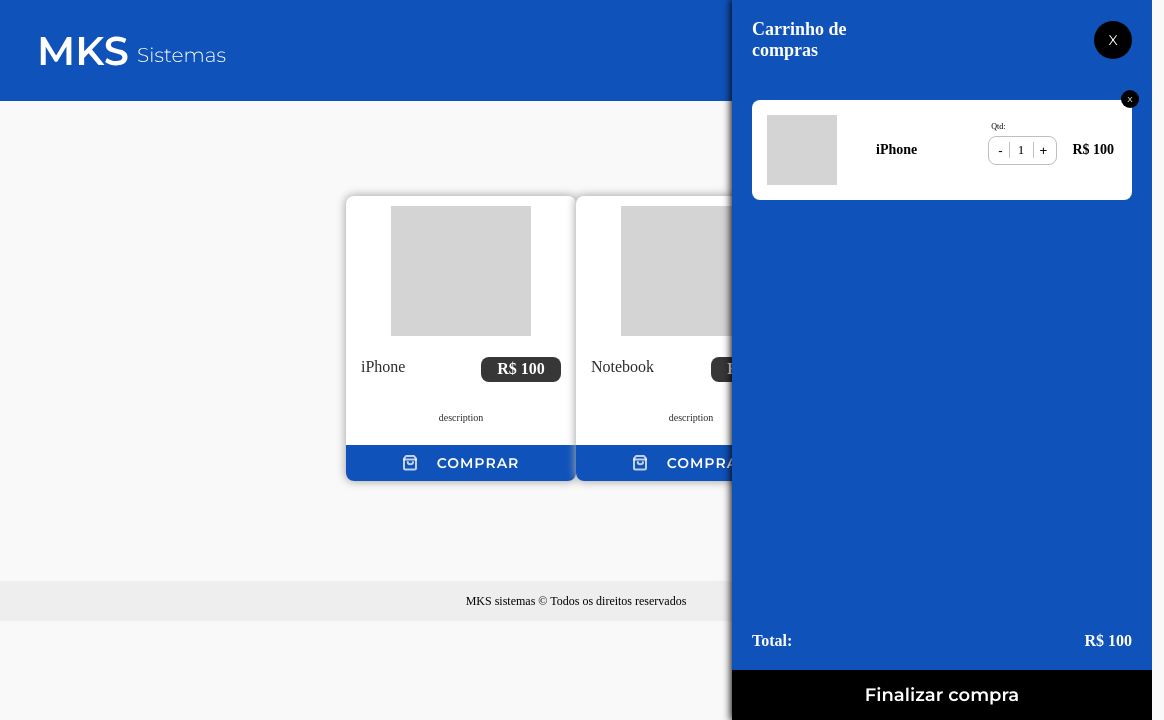
Test case: Home page › should remove products at cart
Expected: the element with test id "cart-product" is shown, [737,85,1147,215]
Click the button with test id "remove-products" at (1000, 150), box [992,140,1009,160]
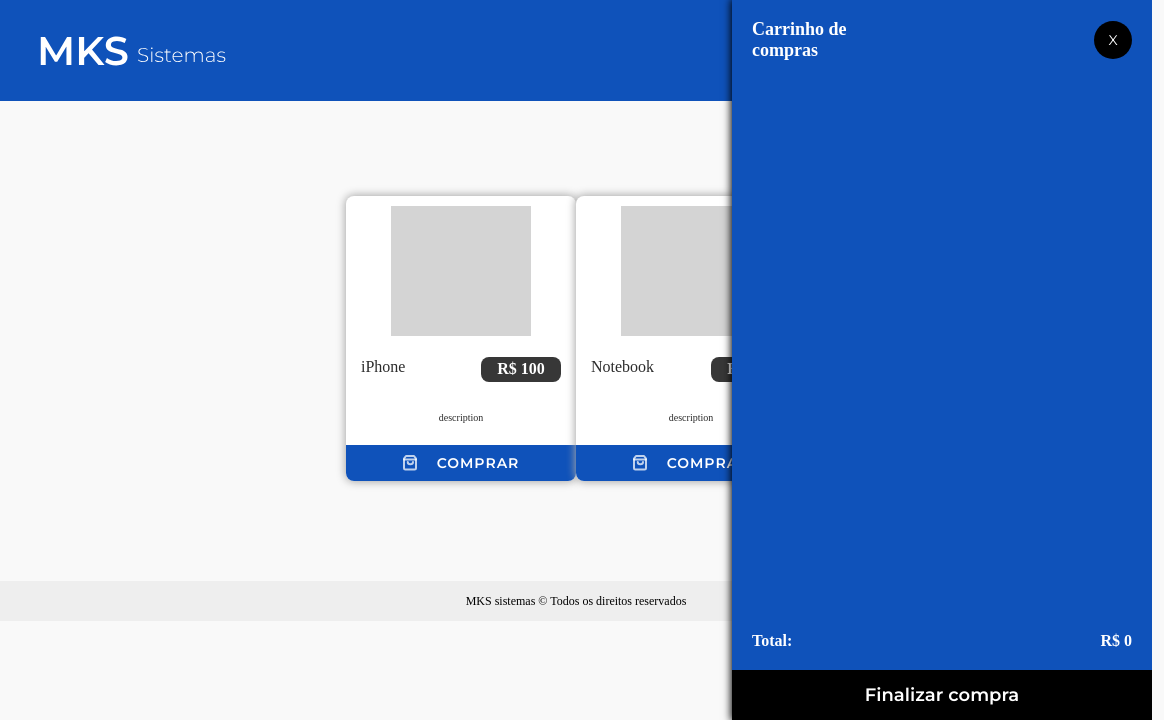
Result: the element with test id "cart-product" is gone
